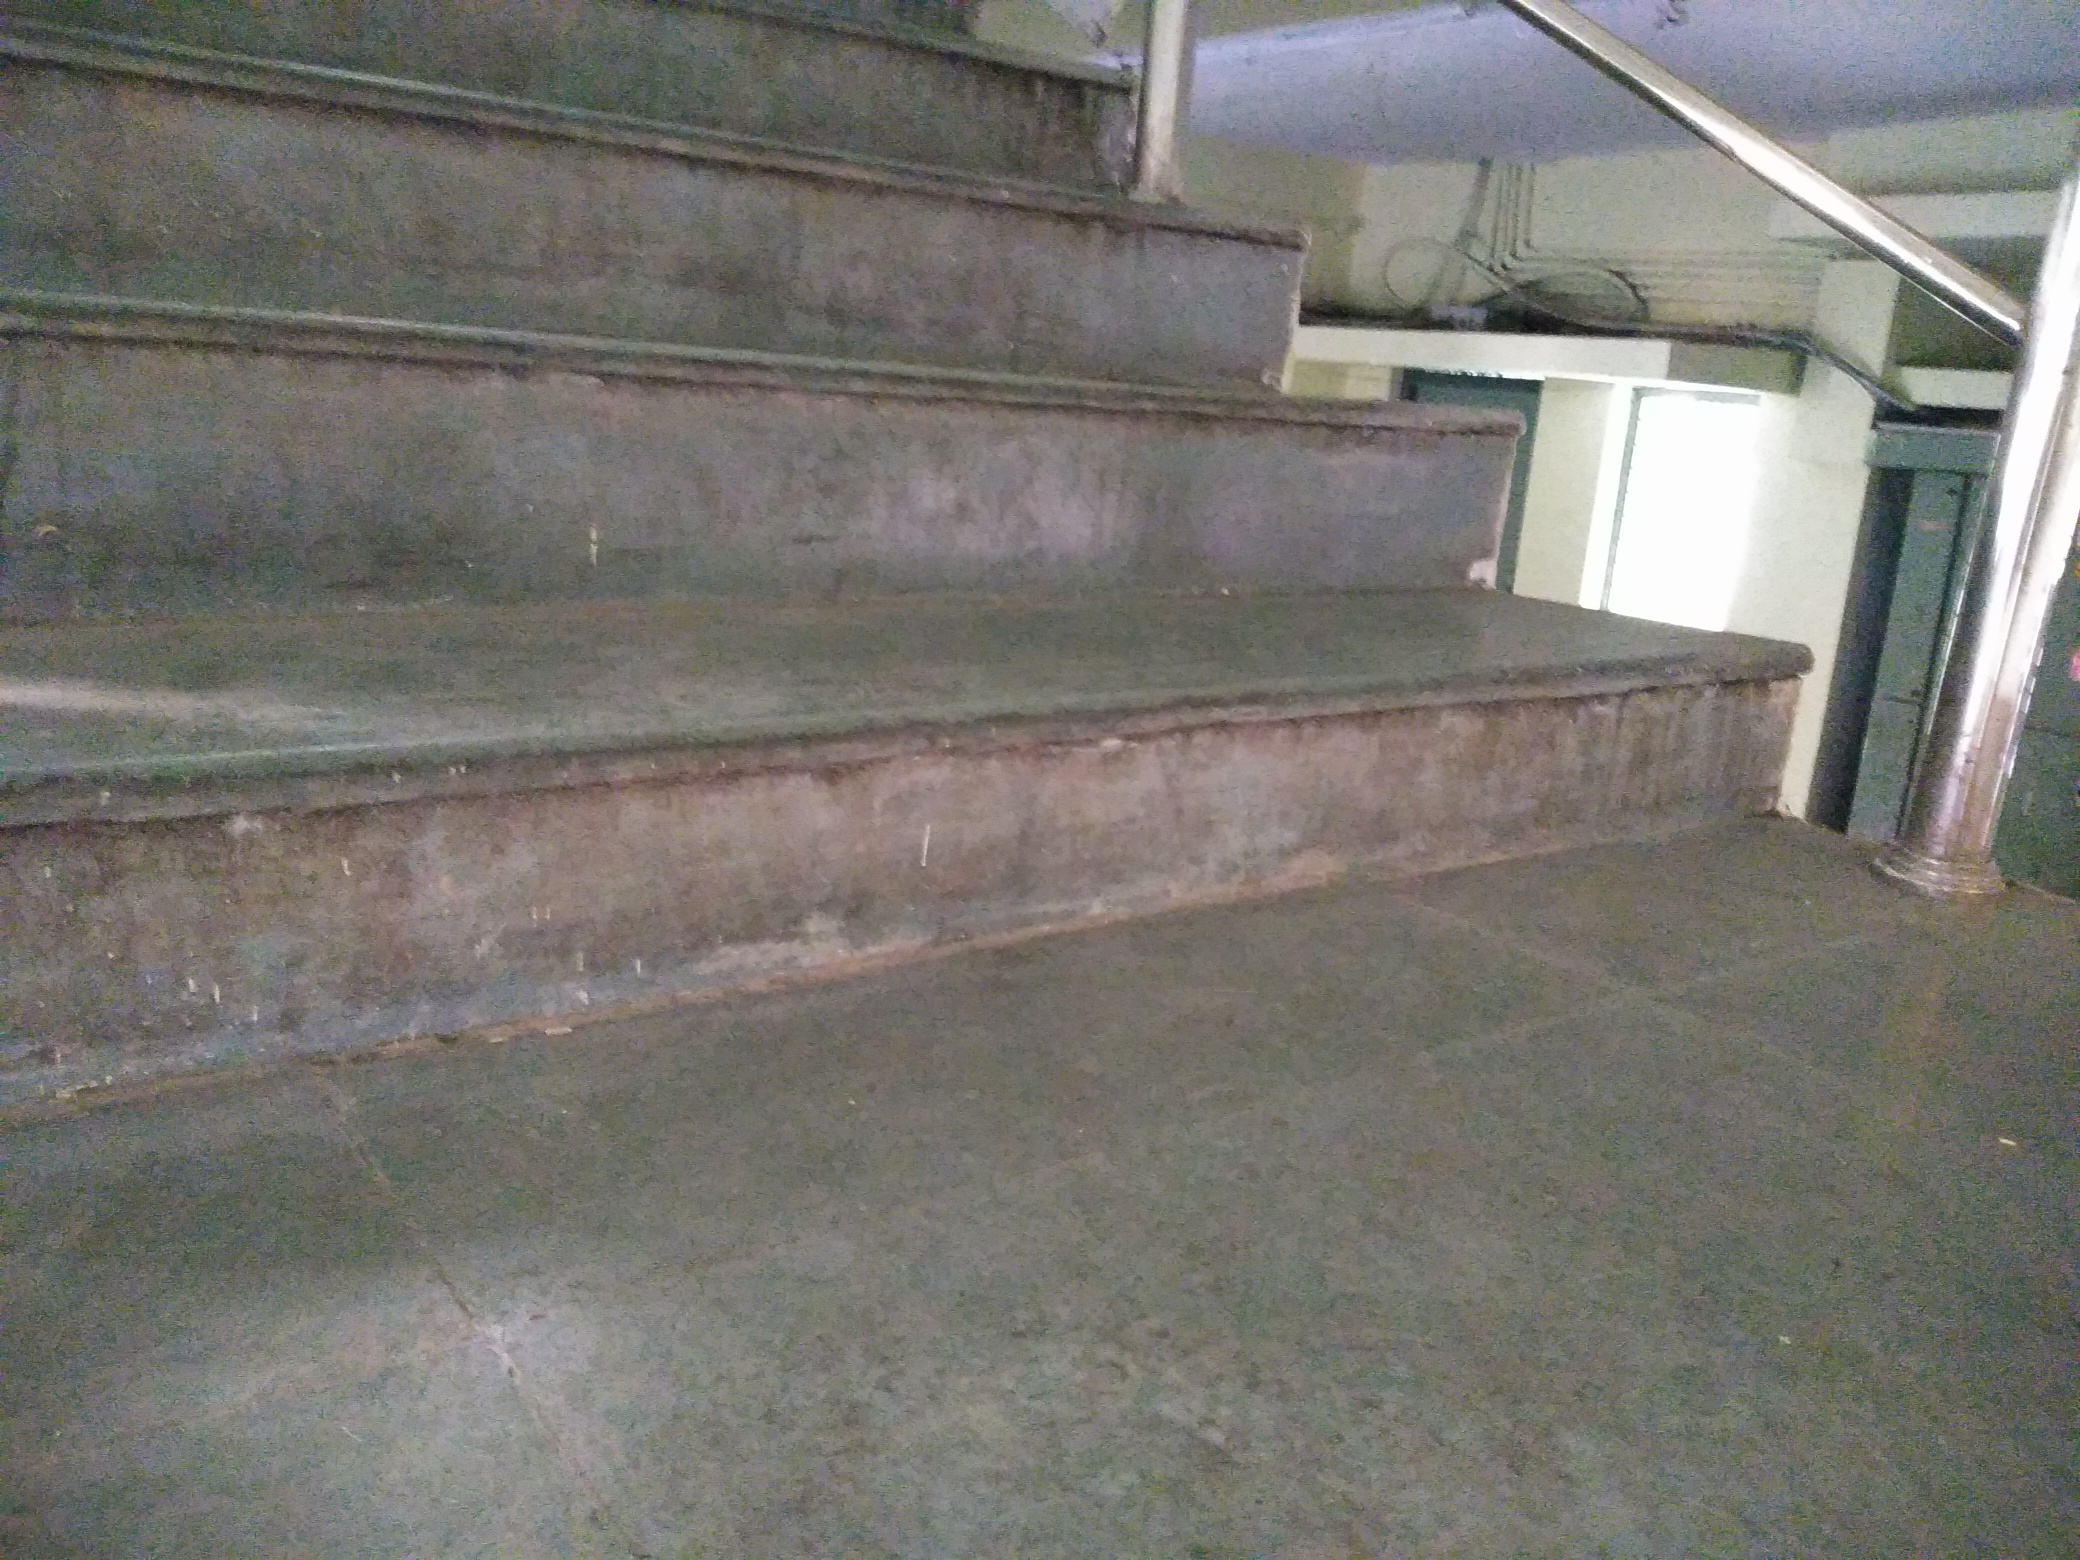stairs_up: (11, 3, 1815, 1036)
